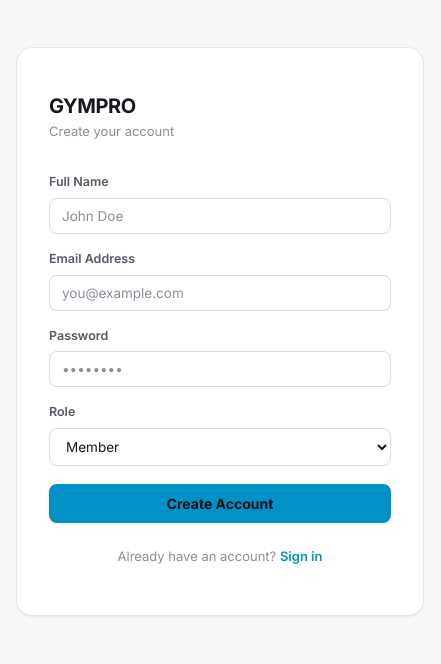
Test case: Register › ADMIN registration approval flow › shows the code-entry step when backend asks for verification
Type "Carol" into the field with placeholder "John Doe" at (220, 216), box 49,198 -> 391,234
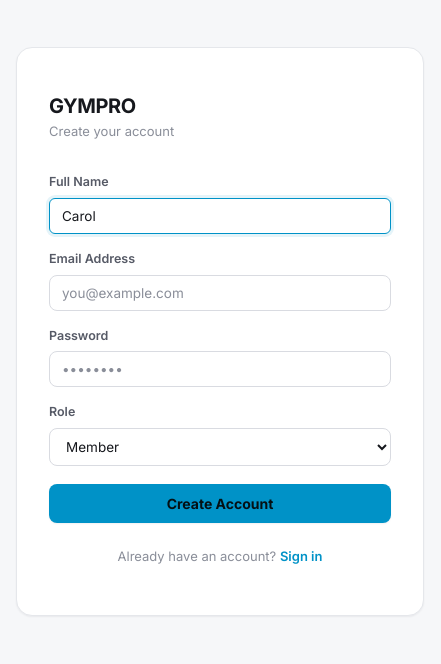
Type "carol@gym.com" into the field with placeholder "you@example.com" at (220, 292), box 49,274 -> 391,310
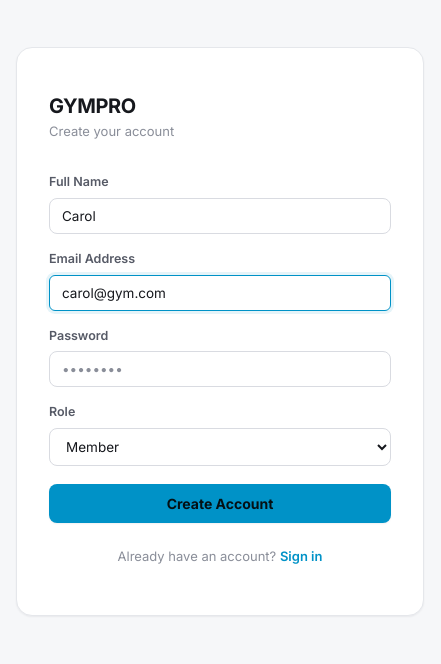
Type "pass123" into the password field with placeholder "••••••••" at (220, 369), box 49,351 -> 391,387
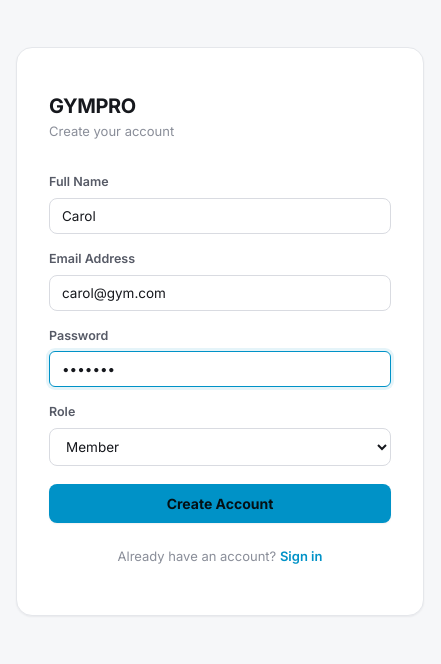
Select "Admin" in the dropdown at (220, 447), box 49,428 -> 391,466
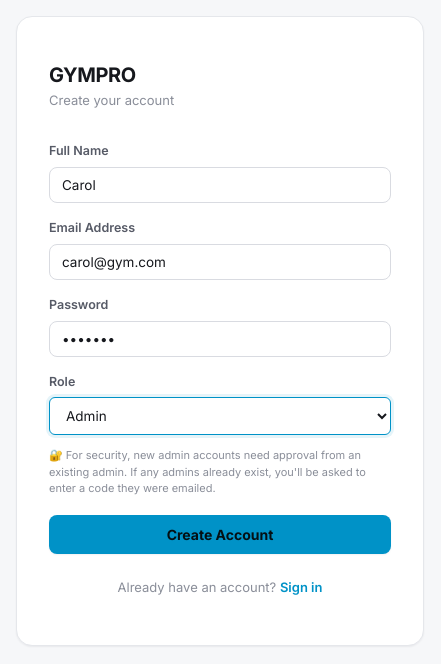
Click the button "Create Account" at (220, 534), box 49,515 -> 391,554
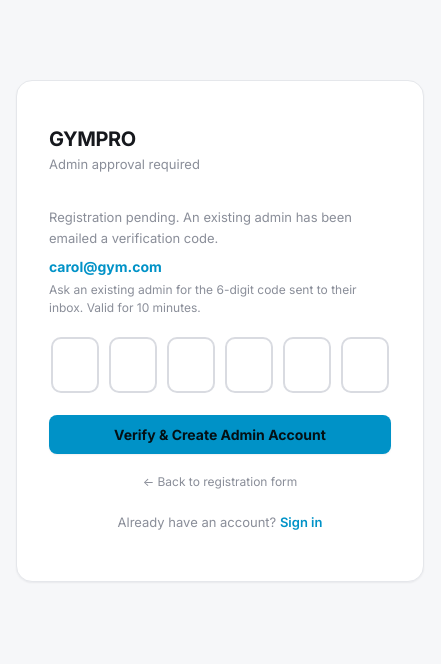
Expected: the text "An existing admin has been emailed" is shown, 49,209 -> 352,246
Expected: the button "Verify & Create Admin Account" is shown, 49,415 -> 391,454
